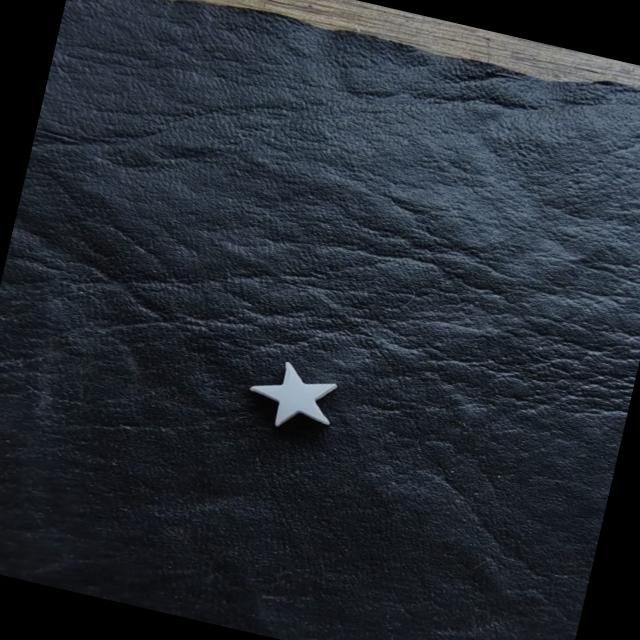estrellas: (253, 365, 335, 424)
